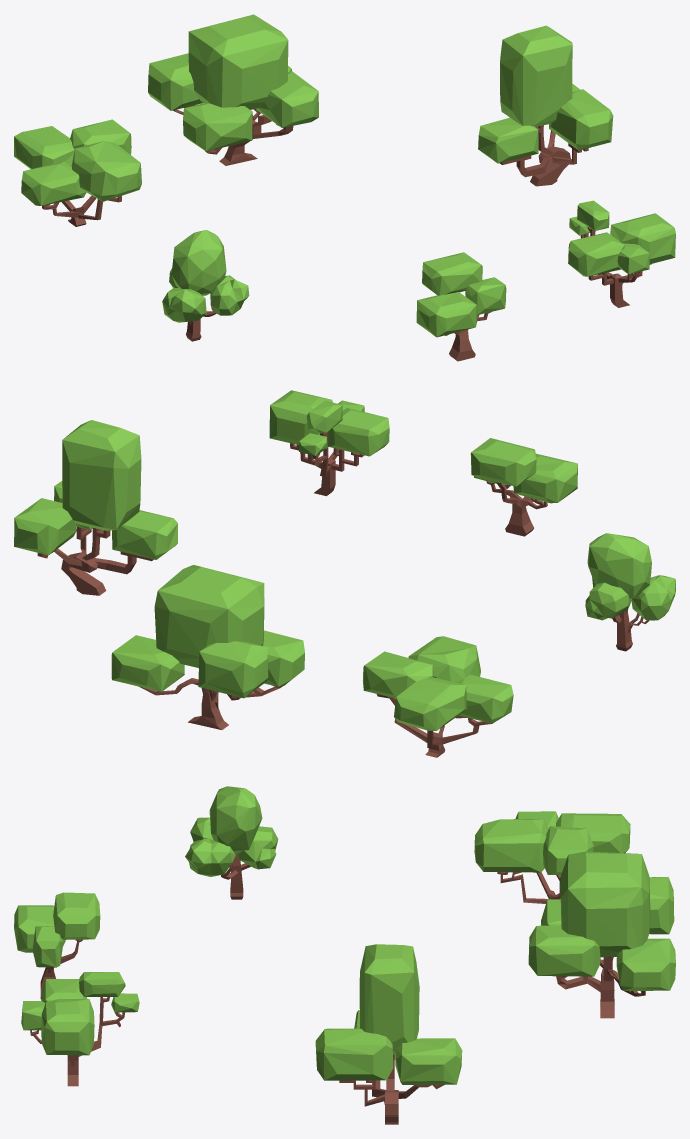
The model's file is shrubs_01lowpoly.fbx.
The picture shows the model from 3 angles, top to bottom: view 1: azimuth 30°, elevation 25°; view 2: azimuth 150°, elevation 25°; view 3: azimuth 270°, elevation 25°; orthographic projection. The views are drawn at different scales.
Visible parts, largest first — view 1: trees_03lowpoly:Layer5, trees_03lowpoly:Layer4, trees_03lowpoly:Layer6, trees_03lowpoly:Layer3, trees_03lowpoly:Layer2, trees_03lowpoly:Layer1; view 2: trees_03lowpoly:Layer5, trees_03lowpoly:Layer4, trees_03lowpoly:Layer6, trees_03lowpoly:Layer3, trees_03lowpoly:Layer1, trees_03lowpoly:Layer2; view 3: trees_03lowpoly:Layer5, trees_03lowpoly:Layer4, trees_03lowpoly:Layer6, trees_03lowpoly:Layer3, trees_03lowpoly:Layer1, trees_03lowpoly:Layer2.
Boxes of the visible parts, x1,y1,x2,y2 form: trees_03lowpoly:Layer5: (148,14,318,165); trees_03lowpoly:Layer4: (478,25,613,186); trees_03lowpoly:Layer6: (14,119,141,226); trees_03lowpoly:Layer3: (568,200,675,307); trees_03lowpoly:Layer2: (416,252,506,361); trees_03lowpoly:Layer1: (162,230,249,341); trees_03lowpoly:Layer5: (111,565,304,729); trees_03lowpoly:Layer4: (14,420,177,595); trees_03lowpoly:Layer6: (363,636,513,757); trees_03lowpoly:Layer3: (269,390,389,496); trees_03lowpoly:Layer1: (585,533,675,651); trees_03lowpoly:Layer2: (470,438,577,536); trees_03lowpoly:Layer5: (528,851,675,1018); trees_03lowpoly:Layer4: (315,944,462,1124); trees_03lowpoly:Layer6: (474,811,630,903); trees_03lowpoly:Layer3: (21,972,139,1086); trees_03lowpoly:Layer1: (185,786,278,899); trees_03lowpoly:Layer2: (14,892,100,998).
Size of the model in its own units: 9190 by 2694 by 9624.
